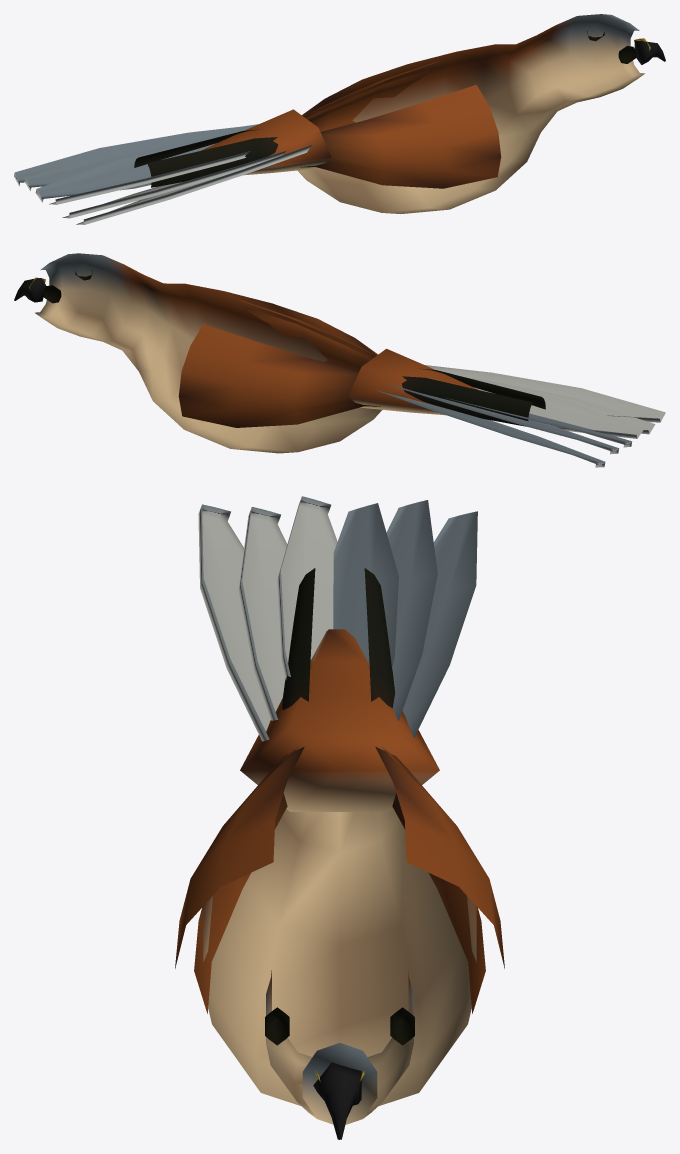
Rendered from SM_Bird_kestrel_closed_LOD1.glb.
3 renders of one model, top to bottom at view 1: azimuth 30°, elevation 25°; view 2: azimuth 150°, elevation 25°; view 3: azimuth 270°, elevation 25°, orthographic. The views are drawn at different scales.
Visible parts, largest first — view 1: SM_Bird_kestrel_closed_LOD1; view 2: SM_Bird_kestrel_closed_LOD1; view 3: SM_Bird_kestrel_closed_LOD1.
Boxes of the visible parts, box(x1,y1,x2,y2) form: SM_Bird_kestrel_closed_LOD1: box(14, 14, 665, 224); SM_Bird_kestrel_closed_LOD1: box(14, 253, 665, 467); SM_Bird_kestrel_closed_LOD1: box(175, 496, 504, 1139).
Bounding box in the file's own units: 0.3791 × 0.089 × 0.0874.
